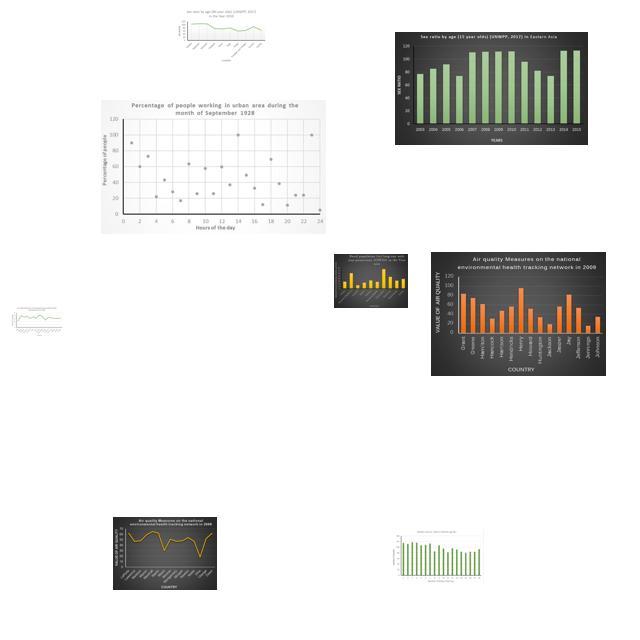Graph: (101, 100, 326, 234), (395, 32, 588, 145), (431, 252, 606, 376), (113, 517, 217, 590), (390, 529, 484, 585), (177, 9, 267, 63), (334, 254, 408, 308), (11, 306, 63, 337)
